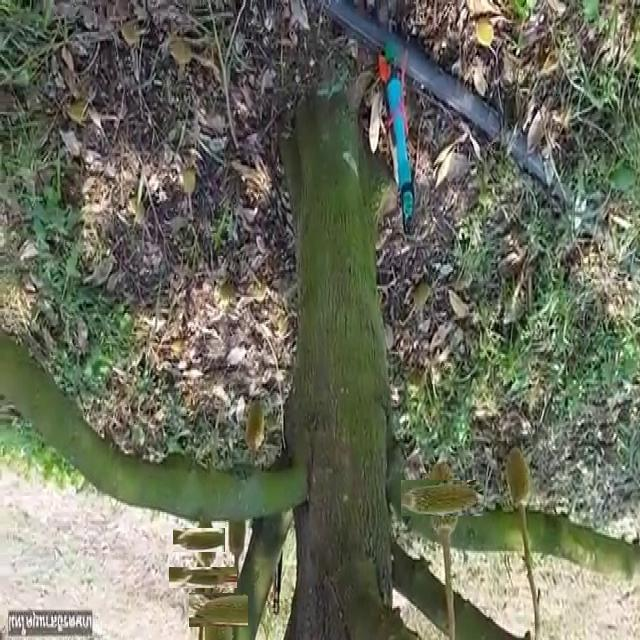durian: (412, 468, 472, 528), (195, 587, 242, 634), (502, 443, 534, 512), (180, 555, 225, 601), (184, 518, 228, 562), (225, 498, 248, 562), (243, 396, 266, 454)
